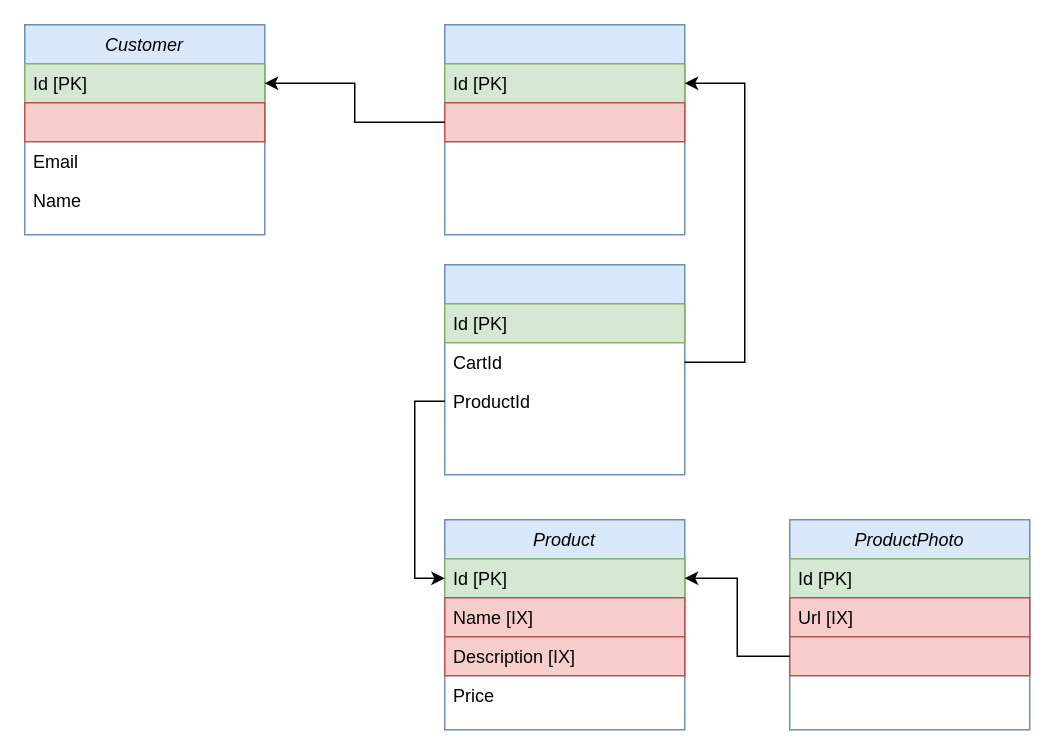
Image size: 1055x755. Some labels were removed from this diagram. The box of each missing label's shape, as (x1, y1, x2, y2) in pixels:
Cart: (443, 23, 685, 235)
CartProduct: (443, 263, 685, 475)
CustomerId [IX]: (443, 101, 685, 142)
Phone [IX]: (23, 101, 265, 142)
ProductId [IX]: (788, 635, 1030, 676)
